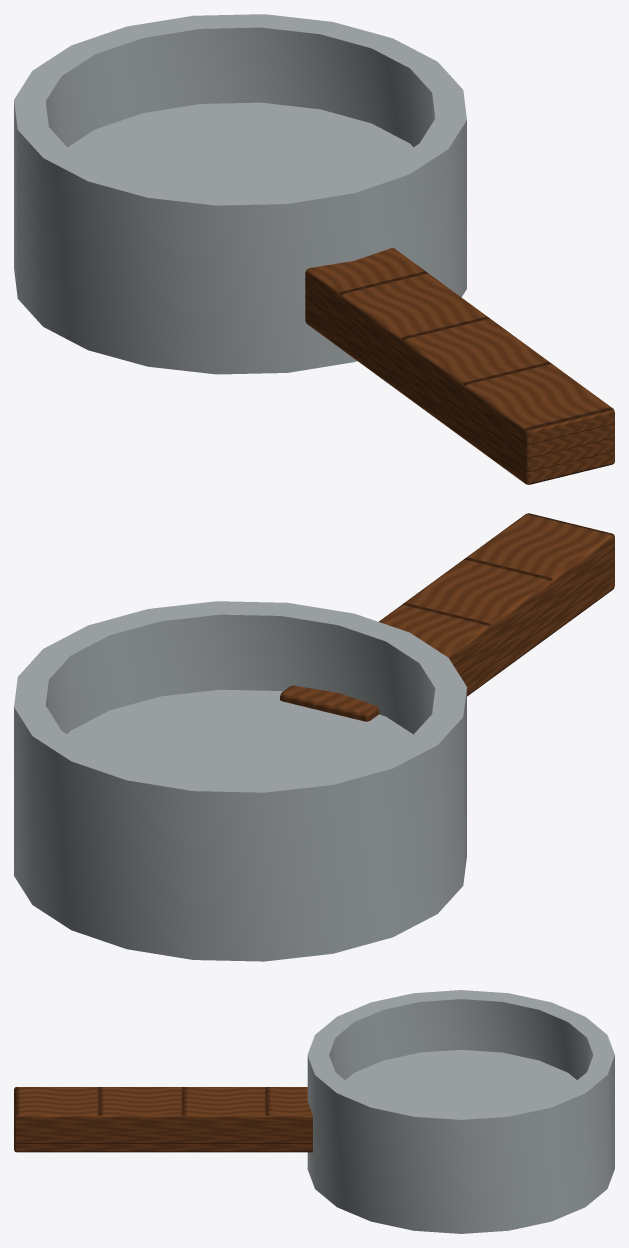
File: survival-food-and-preservation-measuring-scoop-17d86de5__21788.glb
3 views of the same model, one above another, from view 1: azimuth 30°, elevation 25°; view 2: azimuth 150°, elevation 25°; view 3: azimuth 270°, elevation 25° (orthographic). The views are drawn at different scales.
Visible parts, largest first — view 1: measuring-scoop; view 2: measuring-scoop; view 3: measuring-scoop.
Part boxes in pixels (box(x1,y1,x2,y2)): measuring-scoop: box(14, 14, 614, 484); measuring-scoop: box(14, 513, 614, 961); measuring-scoop: box(14, 990, 614, 1233).
Size of the model in its own units: 0.11 by 0.045 by 0.215.
Materials: 2 (1 with a texture image).
